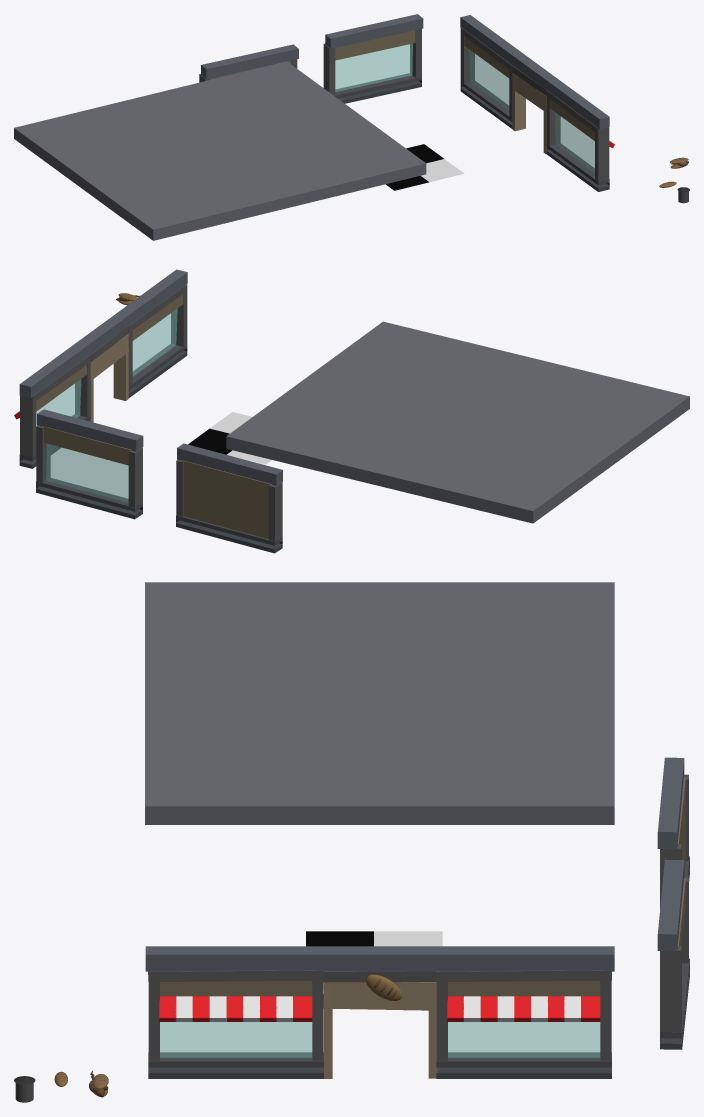
The model's file is BREADSHOP.glb.
3 renders of one model, top to bottom at view 1: azimuth 30°, elevation 25°; view 2: azimuth 150°, elevation 25°; view 3: azimuth 270°, elevation 25°, orthographic. The views are drawn at different scales.
Visible parts, largest first — view 1: Cube, Cube.001, Cube.058, Cube.009, Plane.001; view 2: Cube, Cube.001, Cube.058, Cube.009, Plane.001; view 3: Cube, Cube.001, Cube.058, Cube.009, Plane.001.
Boxes of the visible parts, x1,y1,x2,y2 form: Cube: (14, 61, 426, 240); Cube.001: (460, 15, 614, 191); Cube.058: (323, 14, 423, 103); Cube.009: (199, 44, 298, 82); Plane.001: (386, 144, 464, 190); Cube: (226, 321, 689, 523); Cube.001: (14, 269, 187, 468); Cube.058: (36, 409, 143, 519); Cube.009: (176, 443, 282, 553); Plane.001: (188, 412, 271, 464); Cube: (145, 582, 614, 824); Cube.001: (145, 946, 614, 1078); Cube.058: (657, 859, 689, 1049); Cube.009: (657, 757, 689, 908); Plane.001: (306, 931, 442, 988).
Bounding box in the file's own units: 29.72 × 4.01 × 19.76.
